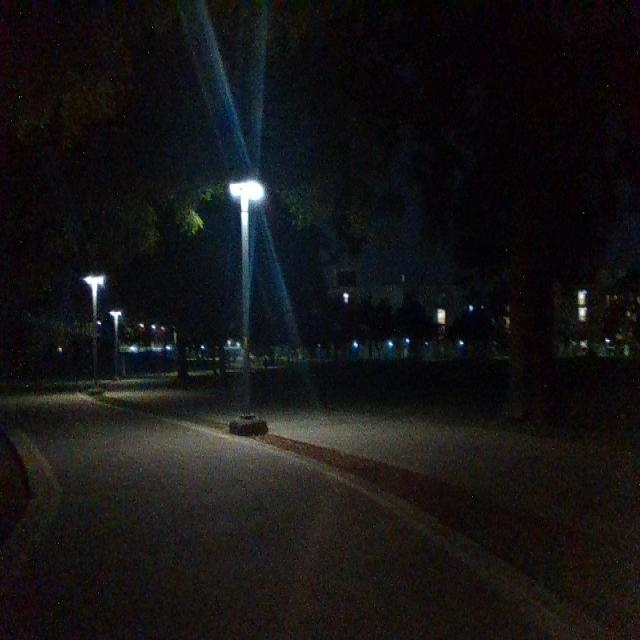lane: (5, 422, 552, 633)
